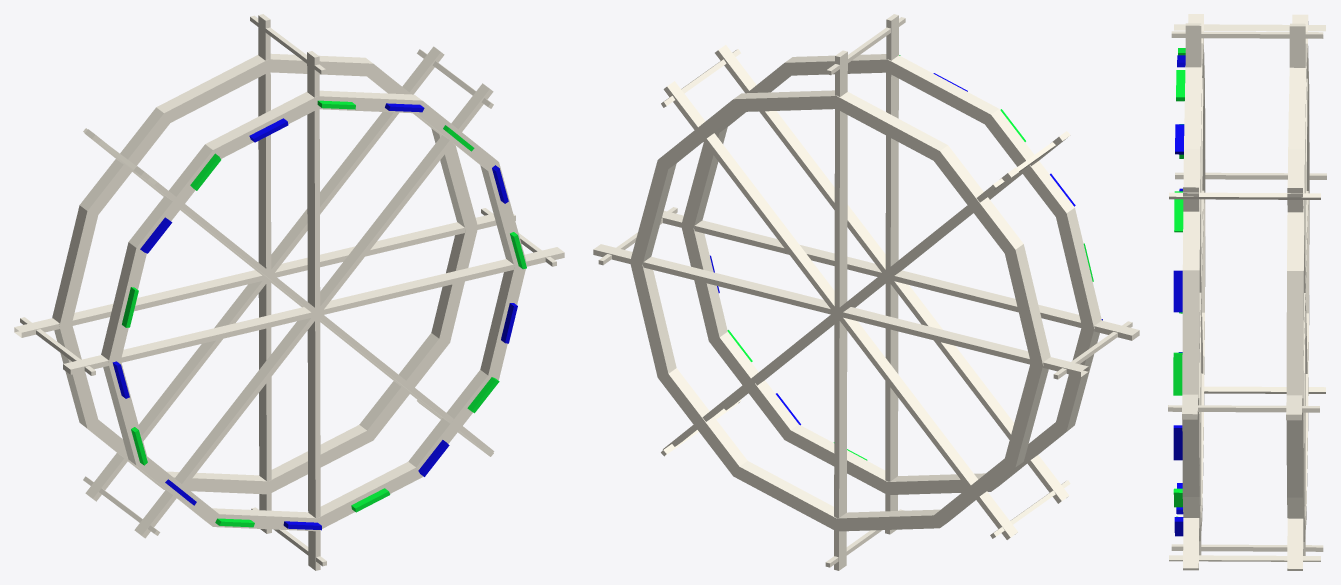
The model's file is FerrisWheel.gltf.
The picture shows the model from 3 angles, left to right: view 1: azimuth 30°, elevation 25°; view 2: azimuth 150°, elevation 25°; view 3: azimuth 270°, elevation 25°; orthographic projection. The views are drawn at different scales.
Parts seen in each view (by area): view 1: ferriswheel.005; view 2: ferriswheel.005; view 3: ferriswheel.005.
Part boxes in pixels (x1,y1,x2,y2): ferriswheel.005: [14, 14, 564, 570]; ferriswheel.005: [593, 14, 1139, 570]; ferriswheel.005: [1168, 14, 1326, 570].
Bounding box in the file's own units: 11.54 × 11.51 × 3.1.
Materials: 1 (1 with a texture image).
